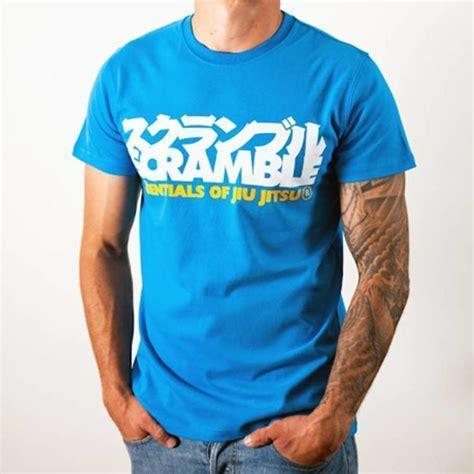Tshirt: (72, 13, 417, 444)
